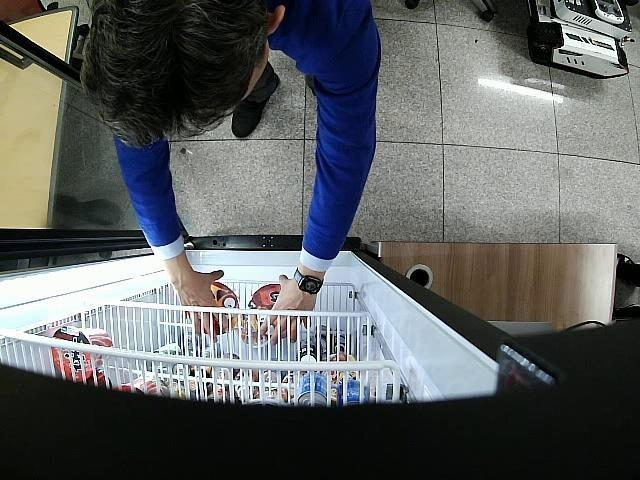05_nuguri_L: (247, 284, 281, 336), (211, 282, 239, 335)
